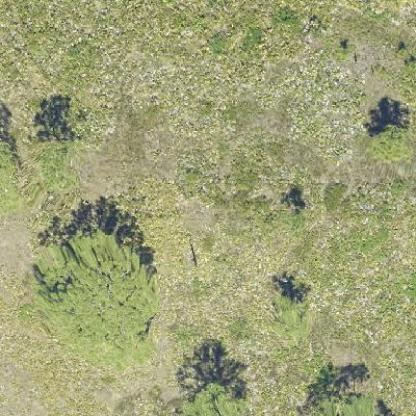tree-top: (33, 234, 159, 361), (267, 290, 314, 341), (178, 382, 250, 415), (35, 144, 81, 194), (364, 123, 414, 164), (306, 396, 382, 415)
